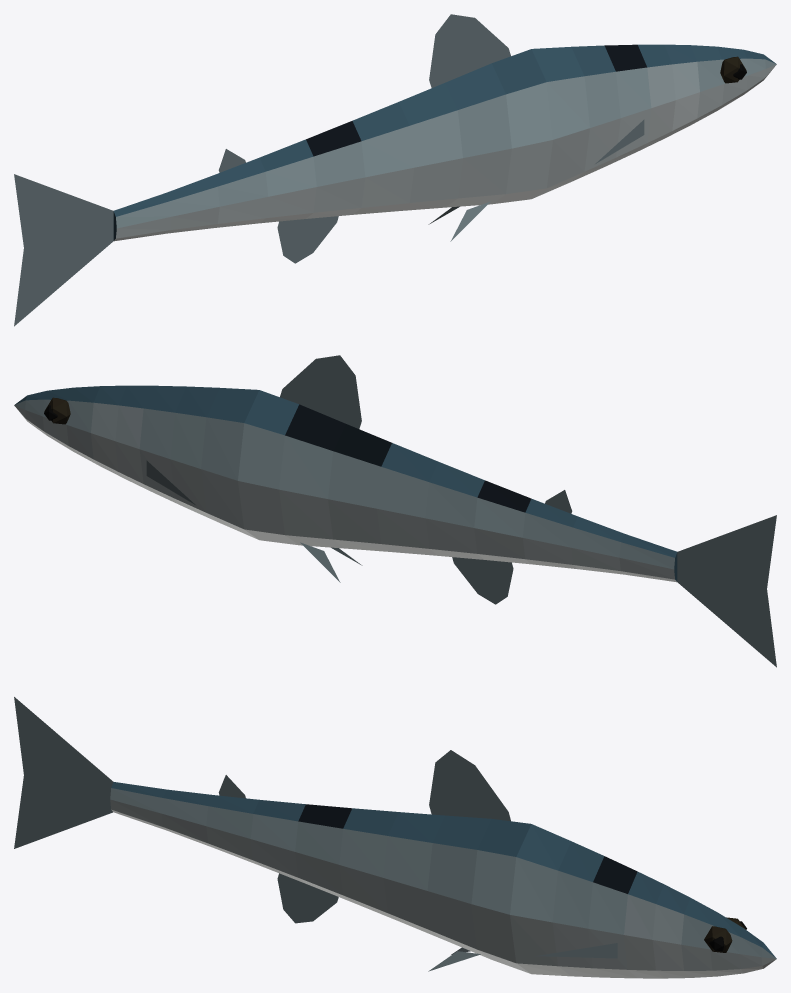
File: coho-salmon.glb
The picture shows the model from 3 angles, top to bottom: view 1: azimuth 30°, elevation 25°; view 2: azimuth 150°, elevation 25°; view 3: azimuth 330°, elevation 25°; orthographic projection.
Parts seen in each view (by area): view 1: coho-salmon; view 2: coho-salmon; view 3: coho-salmon.
Part boxes in pixels (x1,y1,x2,y2): coho-salmon: [14, 14, 776, 326]; coho-salmon: [14, 355, 776, 667]; coho-salmon: [14, 697, 776, 978].
Size of the model in its own units: 1.15 by 0.312 by 0.153.
